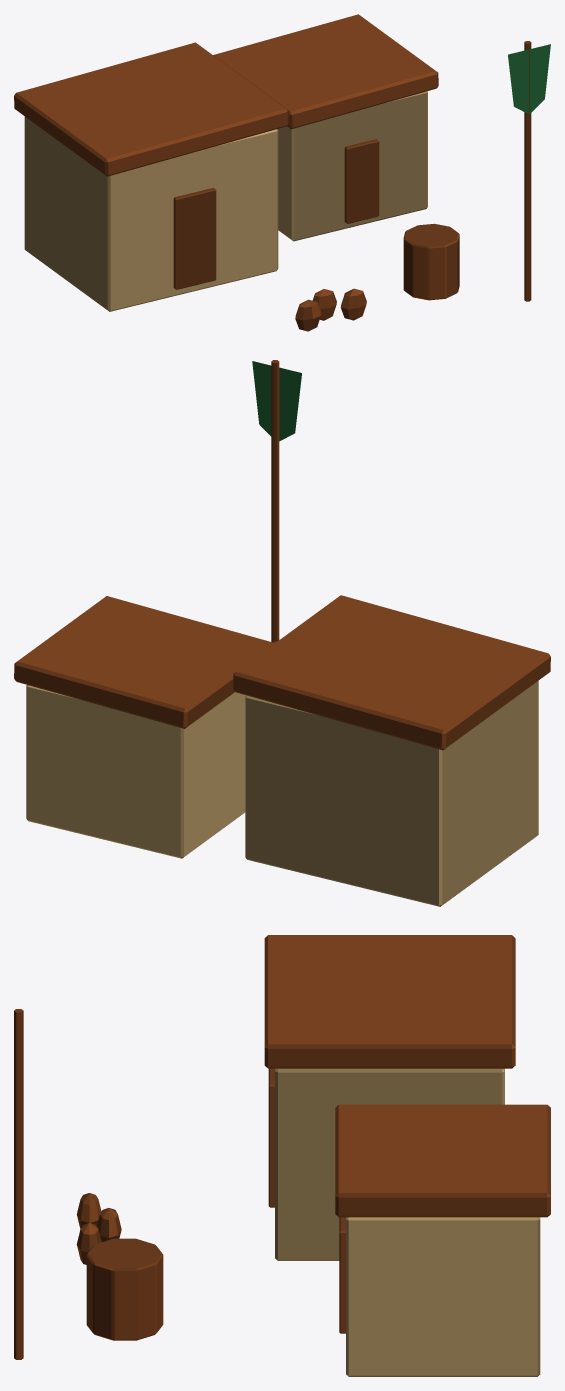
Rendered from edificio-b_015-e1-sL40pPux.glb.
The picture shows the model from 3 angles, top to bottom: view 1: azimuth 30°, elevation 25°; view 2: azimuth 150°, elevation 25°; view 3: azimuth 270°, elevation 25°; orthographic projection. The views are drawn at different scales.
Parts seen in each view (by area): view 1: edificio_b_015_e1_detalles, edificio_b_015_e1_envolvente, edificio_b_015_e1_team_color; view 2: edificio_b_015_e1_envolvente, edificio_b_015_e1_detalles, edificio_b_015_e1_team_color; view 3: edificio_b_015_e1_detalles, edificio_b_015_e1_envolvente.
Boxes of the visible parts, box(x1,y1,x2,y2) form: edificio_b_015_e1_detalles: box(14, 14, 531, 331); edificio_b_015_e1_envolvente: box(24, 91, 427, 311); edificio_b_015_e1_team_color: box(508, 44, 550, 114); edificio_b_015_e1_envolvente: box(26, 681, 538, 906); edificio_b_015_e1_detalles: box(14, 360, 550, 750); edificio_b_015_e1_team_color: box(252, 361, 301, 441); edificio_b_015_e1_detalles: box(14, 935, 550, 1359); edificio_b_015_e1_envolvente: box(275, 1068, 540, 1376).
Size of the model in its own units: 31.73 by 22 by 30.37.
3 materials, 3 textured.
